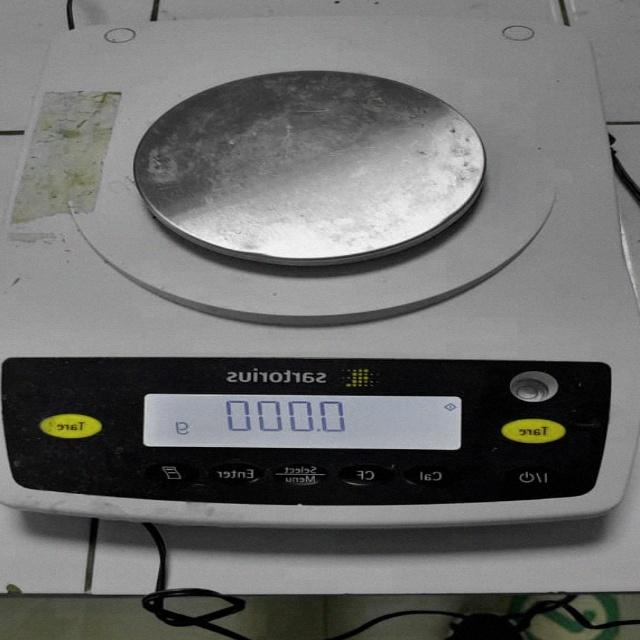Electronic balance: (4, 21, 637, 534)
